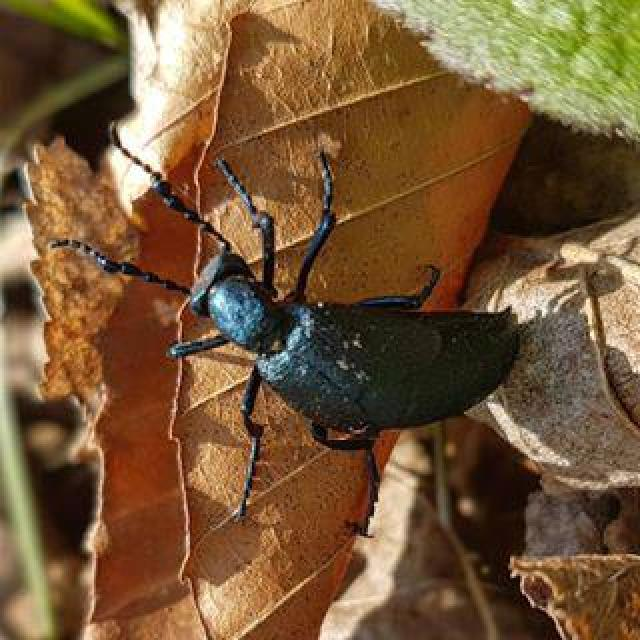BlisterBeetle-Adult-: (43, 109, 528, 536)
